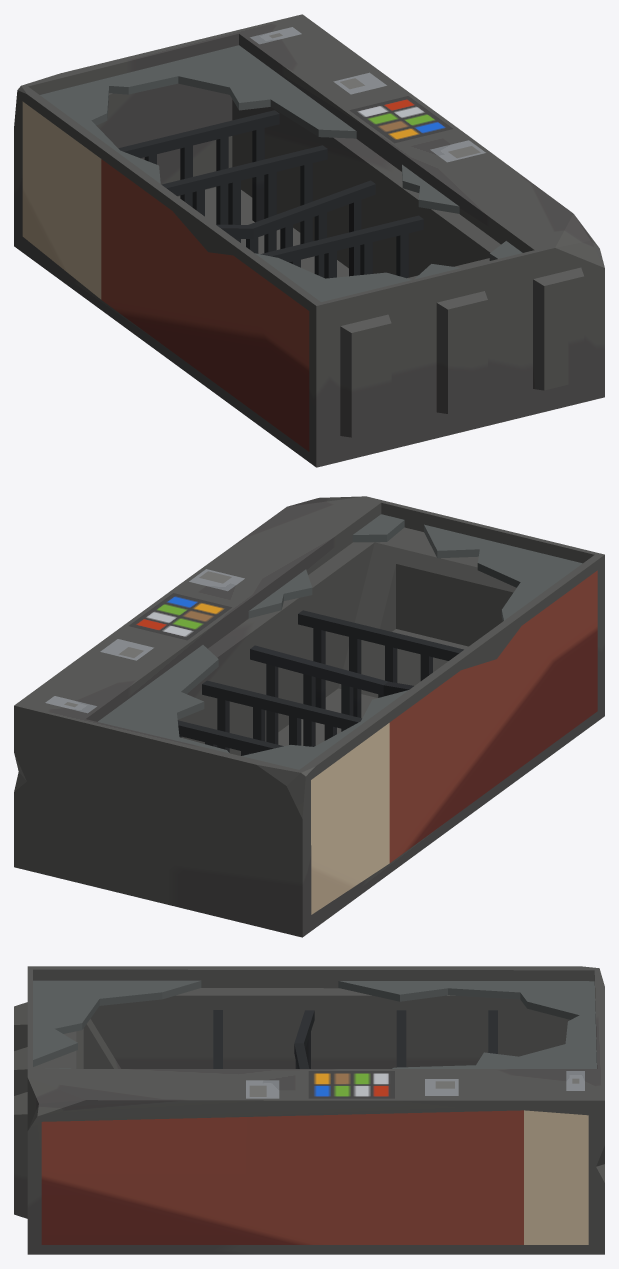
The model's file is SM_Prop_VendingMachine_01.obj.
3 renders of one model, top to bottom at view 1: azimuth 30°, elevation 25°; view 2: azimuth 150°, elevation 25°; view 3: azimuth 270°, elevation 25°, orthographic. The views are drawn at different scales.
Visible parts, largest first — view 1: SM_Prop_VendingMachine_01_0; view 2: SM_Prop_VendingMachine_01_0; view 3: SM_Prop_VendingMachine_01_0.
Part boxes in pixels (left/top/right/bottom): SM_Prop_VendingMachine_01_0: left=14, top=14, right=604, bottom=467; SM_Prop_VendingMachine_01_0: left=14, top=496, right=604, bottom=937; SM_Prop_VendingMachine_01_0: left=14, top=966, right=604, bottom=1254.
Bounding box in the file's own units: 1.21 × 0.6459 × 2.24.
1 material, 1 textured.
